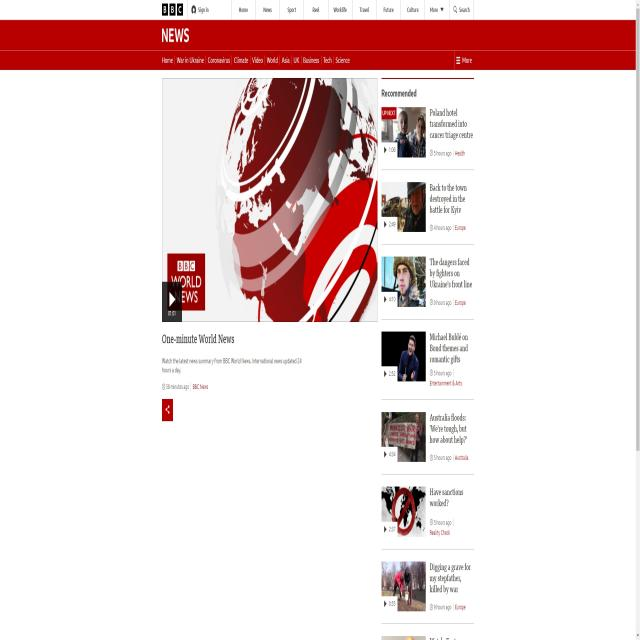content: (160, 338, 307, 395)
tab-bar: (159, 52, 352, 68)
